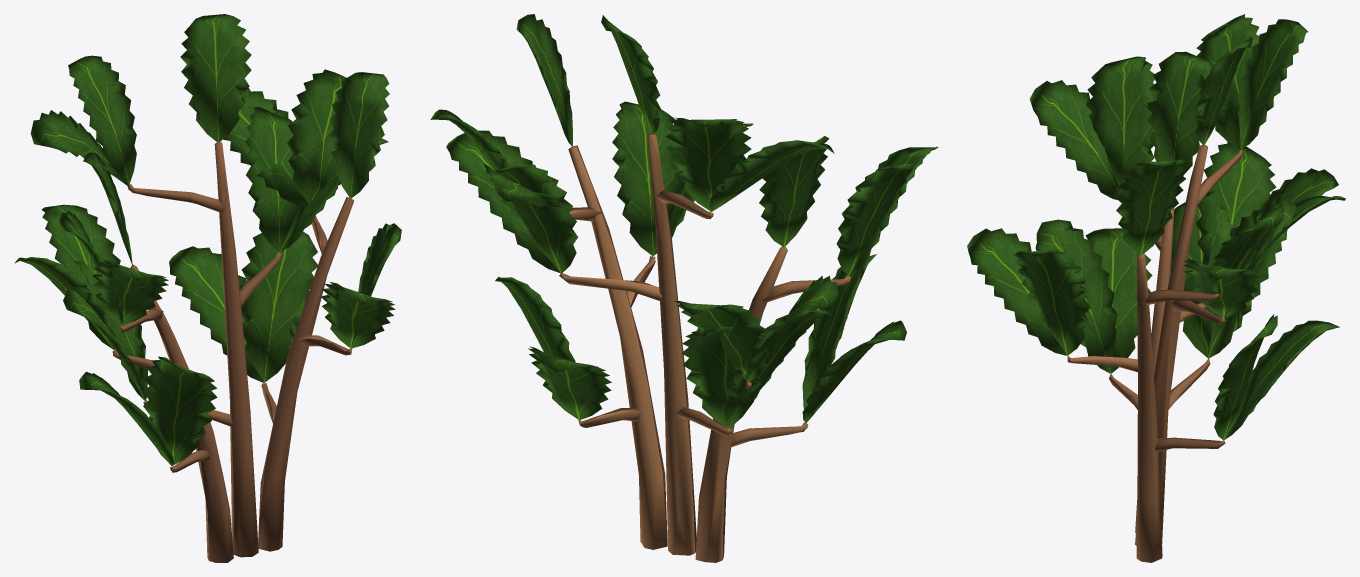
The model's file is NP_Blackberry_Young_LOD1.fbx.
The picture shows the model from 3 angles, left to right: view 1: azimuth 30°, elevation 25°; view 2: azimuth 150°, elevation 25°; view 3: azimuth 270°, elevation 25°; orthographic projection. The views are drawn at different scales.
Visible parts, largest first — view 1: NP_Blackberry_Young; view 2: NP_Blackberry_Young; view 3: NP_Blackberry_Young.
Part boxes in pixels (box(x1,y1,x2,y2)): NP_Blackberry_Young: box(14, 14, 401, 562); NP_Blackberry_Young: box(430, 14, 938, 562); NP_Blackberry_Young: box(967, 14, 1345, 562).
Size of the model in its own units: 49.58 by 63.98 by 43.
